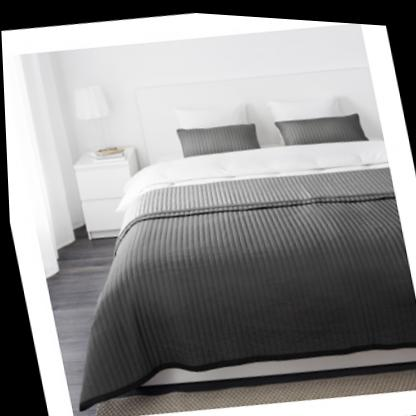Bed: (75, 64, 416, 410)
Carpet: (91, 358, 416, 416)
Nightstand: (74, 144, 141, 242)
